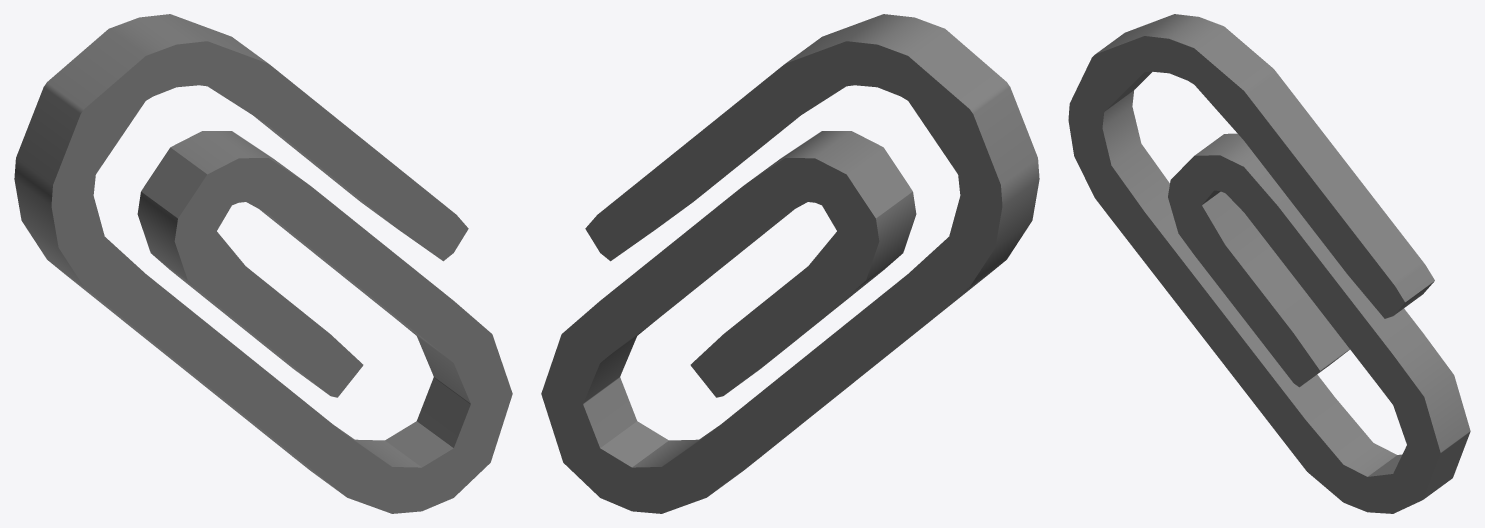
File: fa-paperclip.obj
The picture shows the model from 3 angles, left to right: view 1: azimuth 30°, elevation 25°; view 2: azimuth 150°, elevation 25°; view 3: azimuth 330°, elevation 25°; orthographic projection. The views are drawn at different scales.
Size of the model in its own units: 0.8267 by 0.9024 by 0.1152.
1 material, 1 textured.
